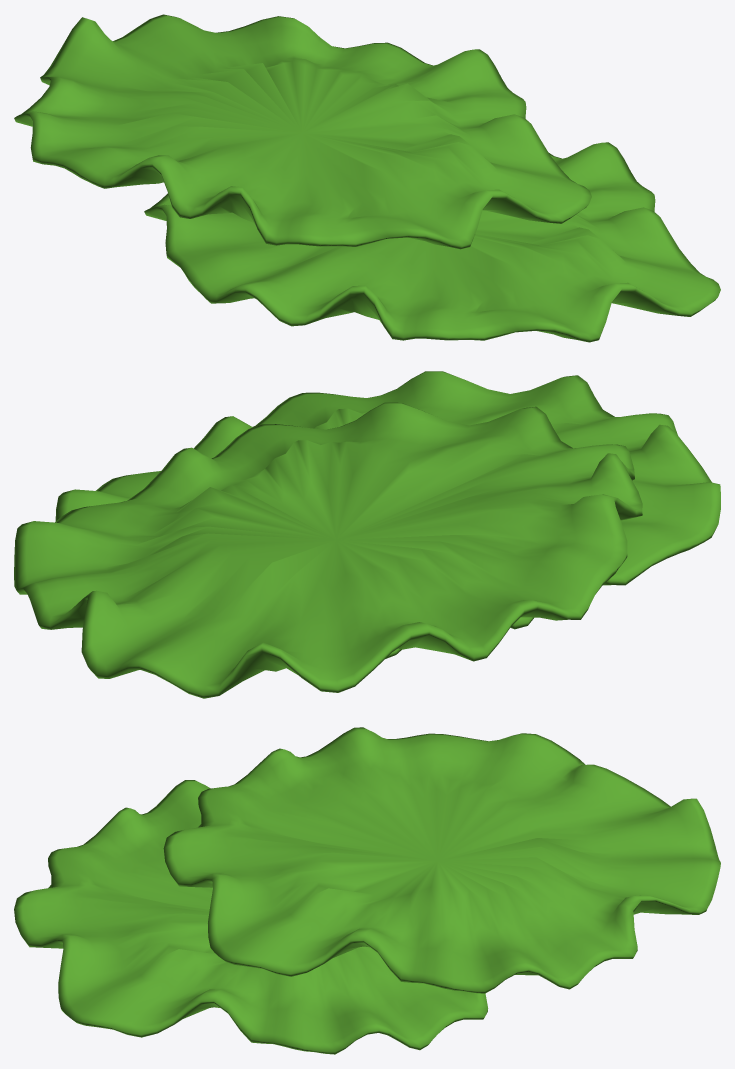
Rendered from lettuce.fbx.
3 renders of one model, top to bottom at view 1: azimuth 30°, elevation 25°; view 2: azimuth 150°, elevation 25°; view 3: azimuth 270°, elevation 25°, orthographic. The views are drawn at different scales.
Visible parts, largest first — view 1: lettuce_2, lettuce_1; view 2: lettuce_2, lettuce_1; view 3: lettuce_2, lettuce_1.
Boxes of the visible parts, x1,y1,x2,y2 form: lettuce_2: [14, 14, 591, 249]; lettuce_1: [144, 142, 720, 342]; lettuce_2: [14, 402, 642, 698]; lettuce_1: [55, 371, 720, 658]; lettuce_2: [163, 727, 720, 993]; lettuce_1: [14, 780, 538, 1054].
Size of the model in its own units: 217 by 55.59 by 282.
